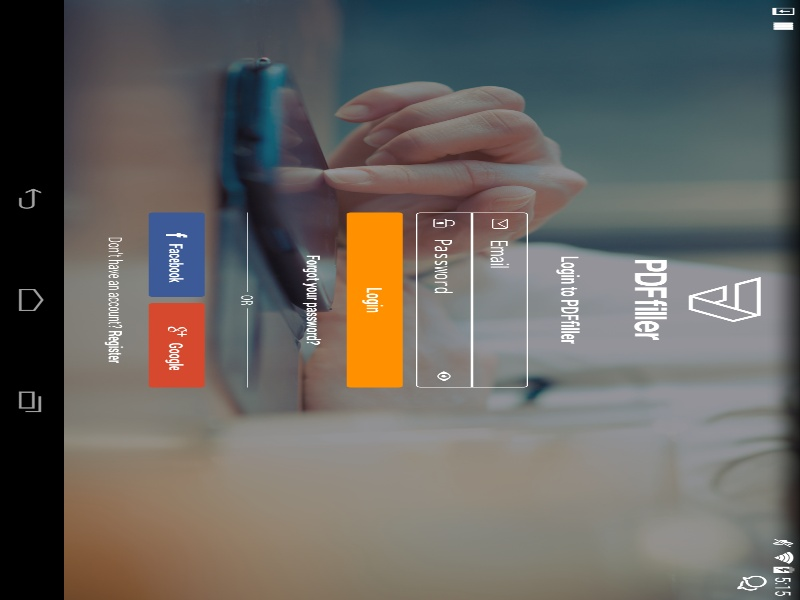Input: (498, 153, 765, 180)
